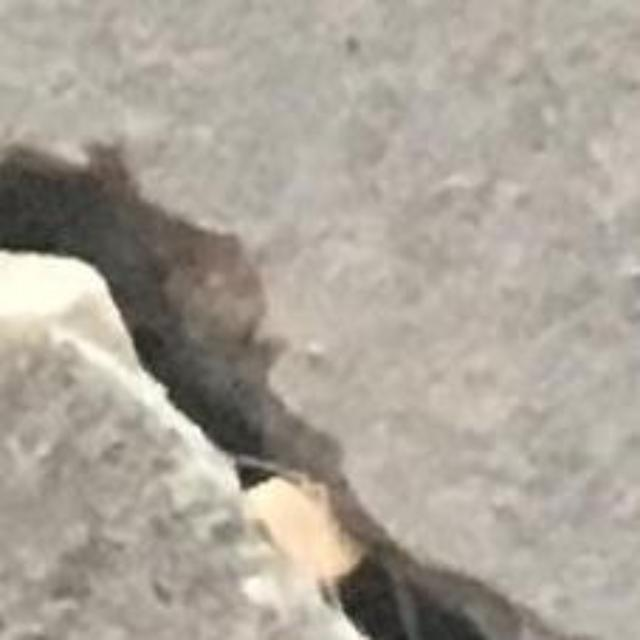crack: (0, 144, 544, 639)
